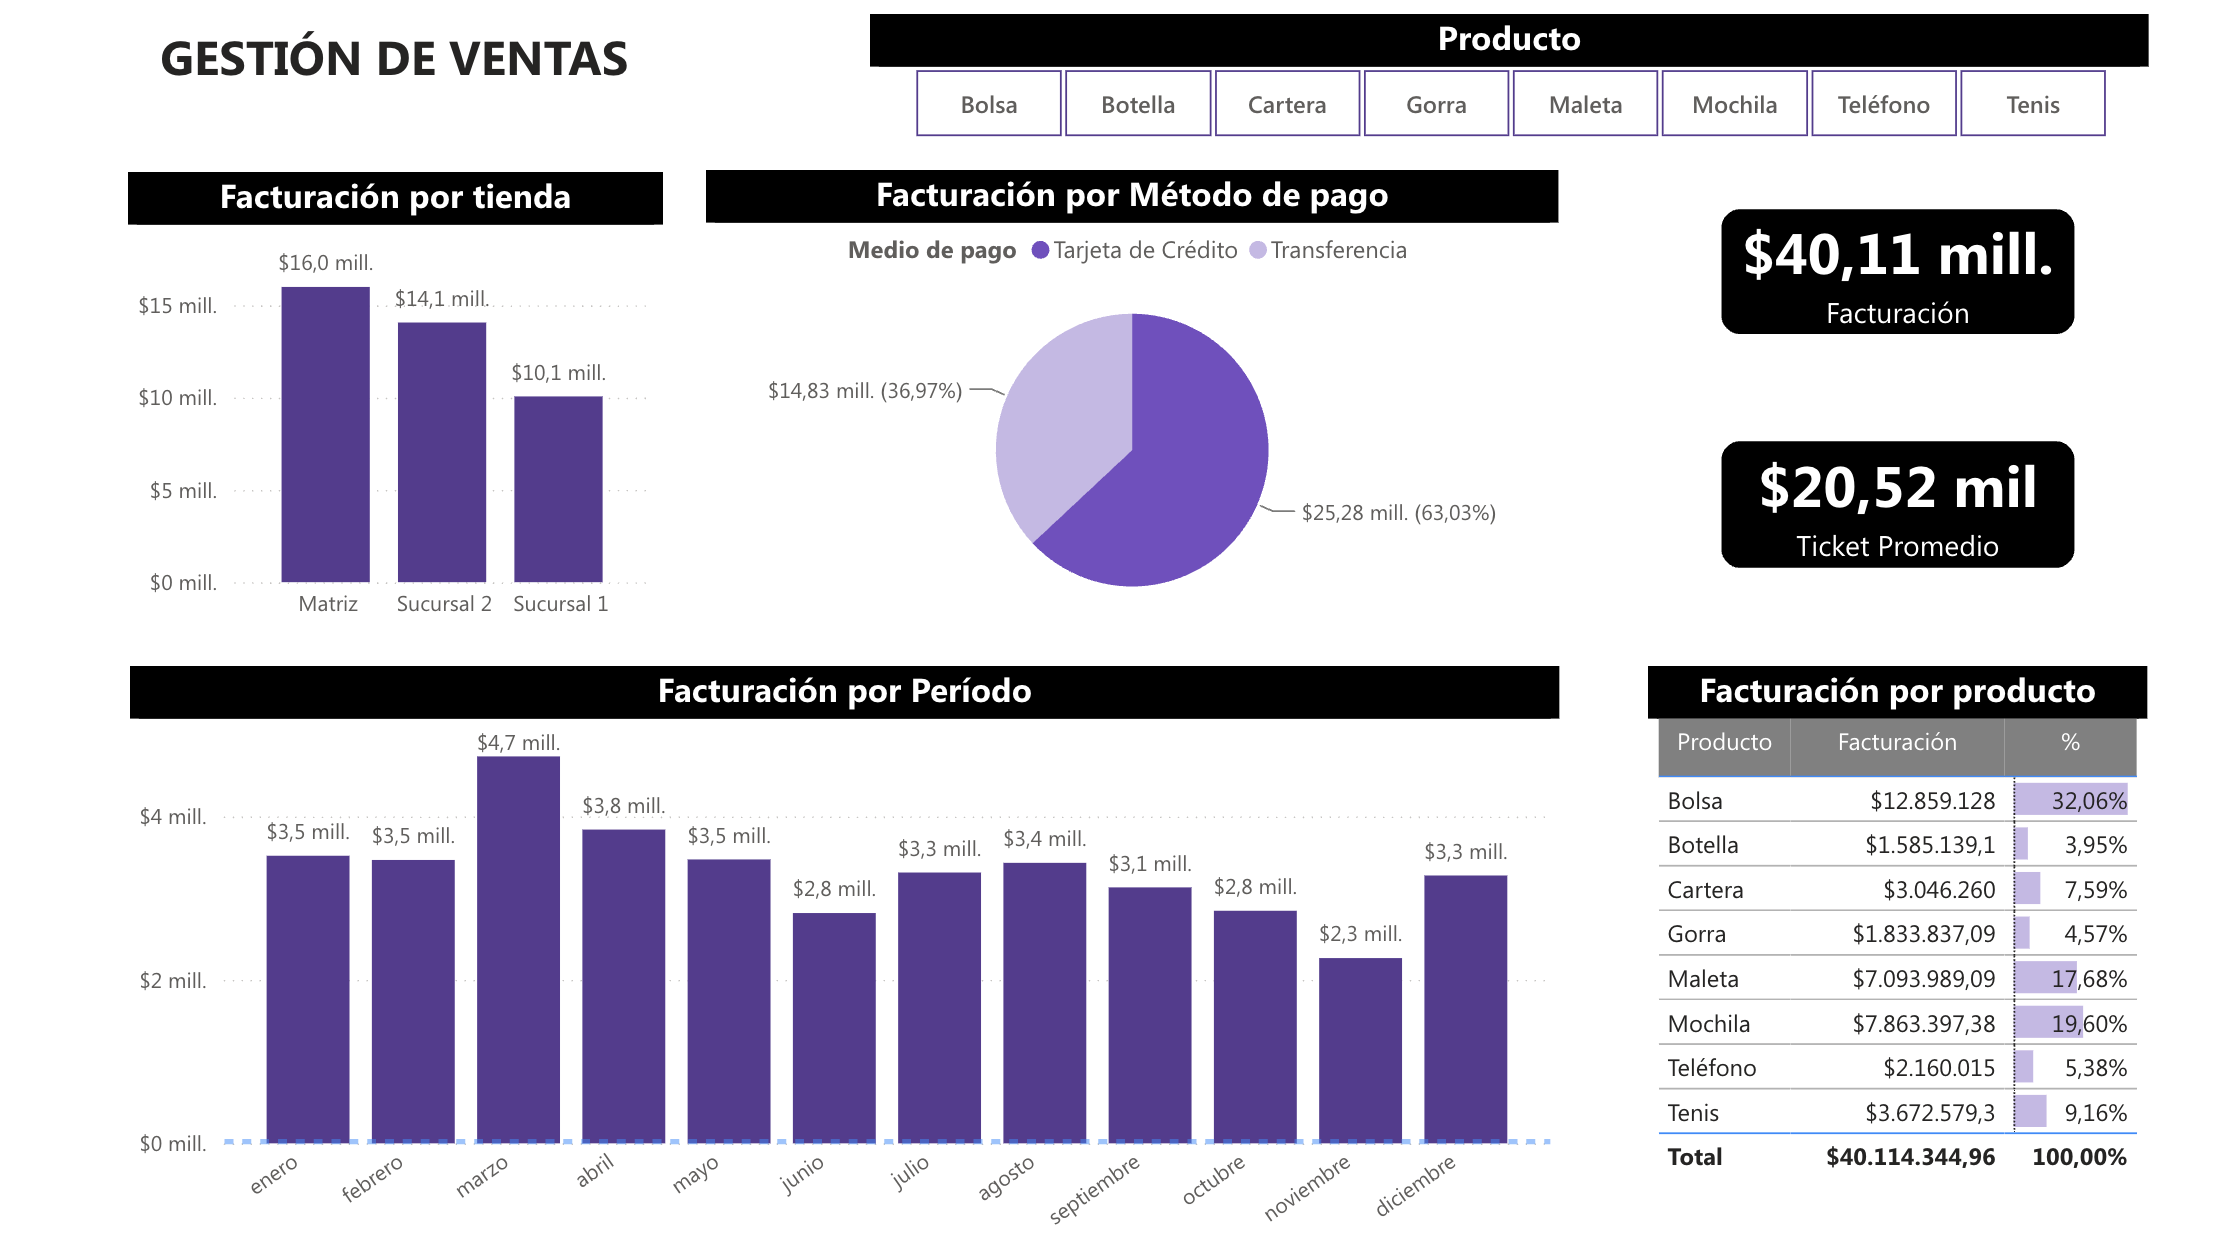

What the dashboard file says about the page in this screenshot:
{"tool":"powerbi","page":{"name":"Página 1","canvas":[1280,720],"ordinal":0},"visuals":[{"type":"cardVisual","fields":{"Data":["Avg(Ventas.Facturación)"]},"box":[971.4,228.6,222.9,115.7],"z":0},{"type":"cardVisual","fields":{"Data":["Sum(Ventas.Facturación)"]},"box":[971.4,98.6,222.9,114.3],"z":1000},{"type":"columnChart","title":"Facturación por Período","fields":{"Category":["Ventas.Fecha Pedido.Variación.Jerarquía de fechas.Mes"],"Y":["Sum(Ventas.Facturación)"]},"box":[90.5,377.1,801.7,336.7],"z":2000},{"type":"pieChart","title":"Facturación por Método de pago","fields":{"Category":["Ventas.Medio de pago"],"Y":["Sum(Ventas.Facturación)"]},"box":[414.1,98.1,478,260],"z":3000},{"type":"clusteredColumnChart","title":"Facturación por tienda","fields":{"Category":["Tiendas.nombre_tienda"],"Y":["Sum(Ventas.Facturación)"]},"box":[90,100,300,260],"z":4000},{"type":"tableEx","title":"Facturación por producto","fields":{"Values":["Ventas.Producto","Sum(Ventas.Facturación)","Divide(Sum(Ventas.Facturación), ScopedEval(Sum(Ventas.Facturación), []))"]},"box":[942.1,377.1,280,298.3],"z":5000},{"type":"slicer","title":"Producto","fields":{"Values":["Ventas.Producto"]},"box":[505.7,11.4,717.1,75.7],"z":6000},{"type":"textbox","box":[90,11.4,298.6,75.7],"z":7000}]}

Visuals, with their boxes in screenshot pixels (x1, y1, x2, y2), scaled from the page's 1280x720 canvas onto the 2236x1240 screenshot:
cardVisual - Avg(Ventas.Facturación): <box>1697,394,2086,593</box>
cardVisual - Sum(Ventas.Facturación): <box>1697,170,2086,367</box>
"Facturación por Período" columnChart: <box>158,649,1559,1229</box>
"Facturación por Método de pago" pieChart: <box>723,169,1558,617</box>
"Facturación por tienda" clusteredColumnChart: <box>157,172,681,620</box>
"Facturación por producto" tableEx: <box>1646,649,2135,1163</box>
"Producto" slicer: <box>883,20,2136,150</box>
textbox: <box>157,20,679,150</box>
